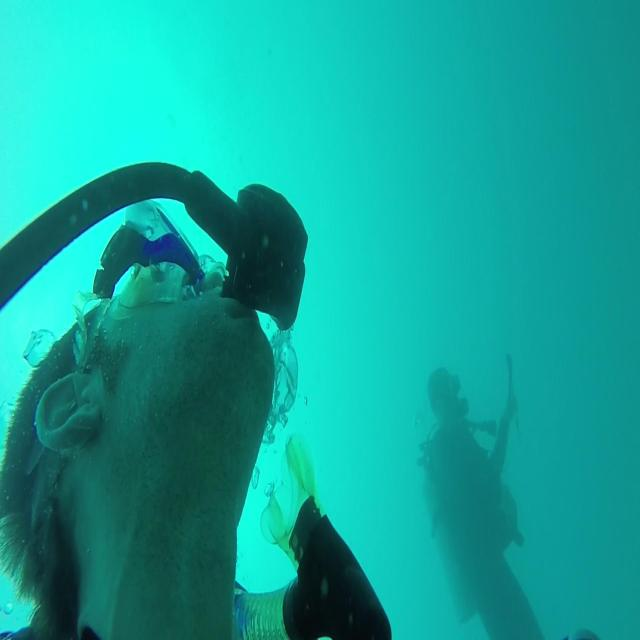human: (1, 163, 392, 638), (417, 352, 546, 638)
